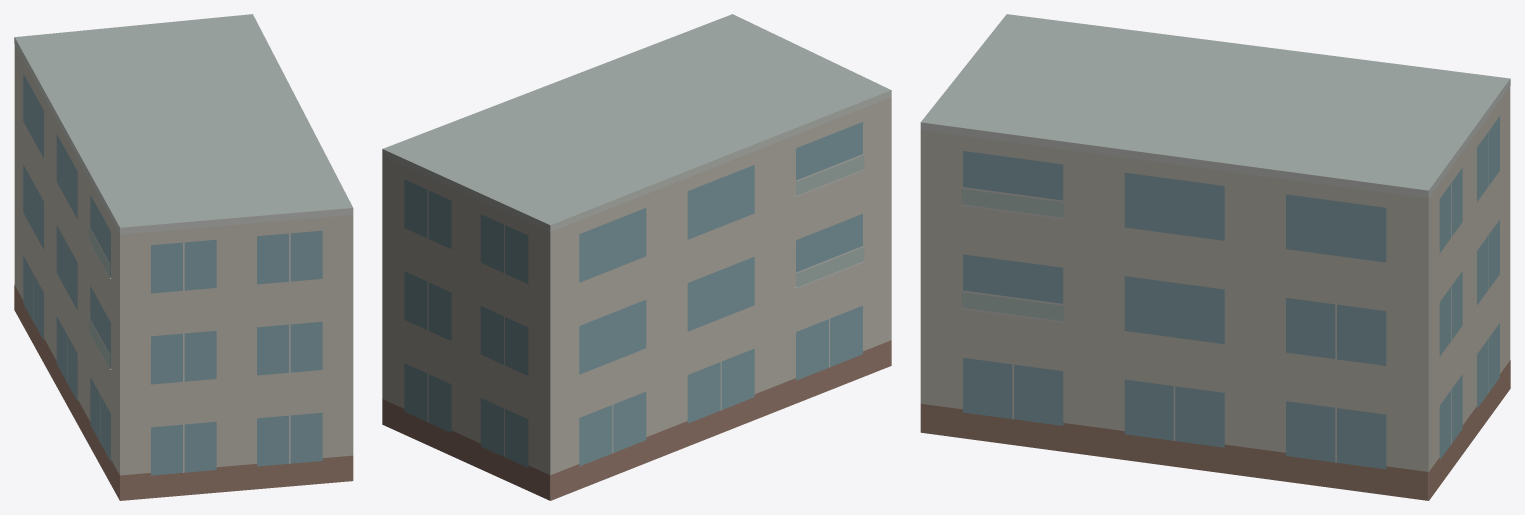
The model's file is survey-upis-32636356.glb.
3 views of the same model, side by side, from view 1: azimuth 30°, elevation 25°; view 2: azimuth 150°, elevation 25°; view 3: azimuth 270°, elevation 25° (orthographic). The views are drawn at different scales.
Visible parts, largest first — view 1: survey-upis-32636356.tmp; view 2: survey-upis-32636356.tmp; view 3: survey-upis-32636356.tmp.
Boxes of the visible parts, box(x1,y1,x2,y2) form: survey-upis-32636356.tmp: box(14, 14, 353, 500); survey-upis-32636356.tmp: box(382, 14, 891, 500); survey-upis-32636356.tmp: box(920, 14, 1510, 500).
Size of the model in its own units: 11.85 by 9.7 by 16.72.
